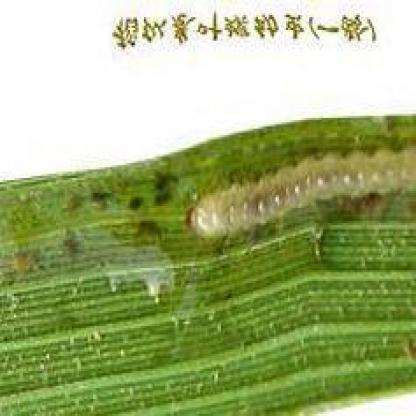leaf-folder: (173, 108, 416, 268)
